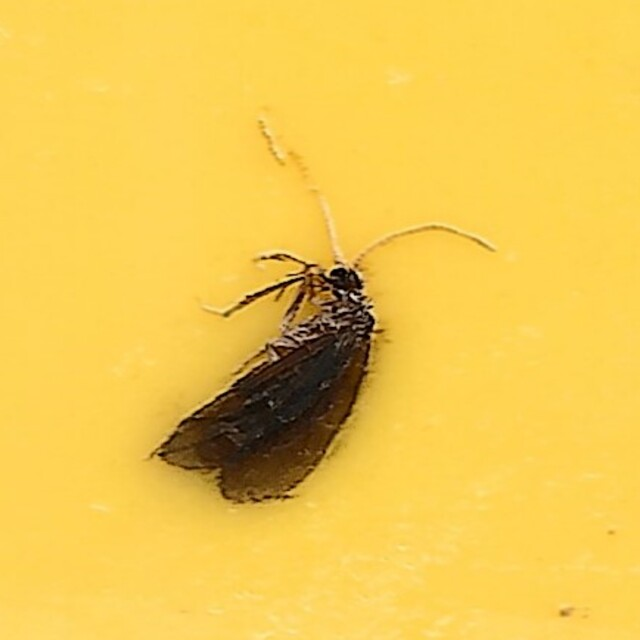Trichoptera: (147, 125, 493, 515)
